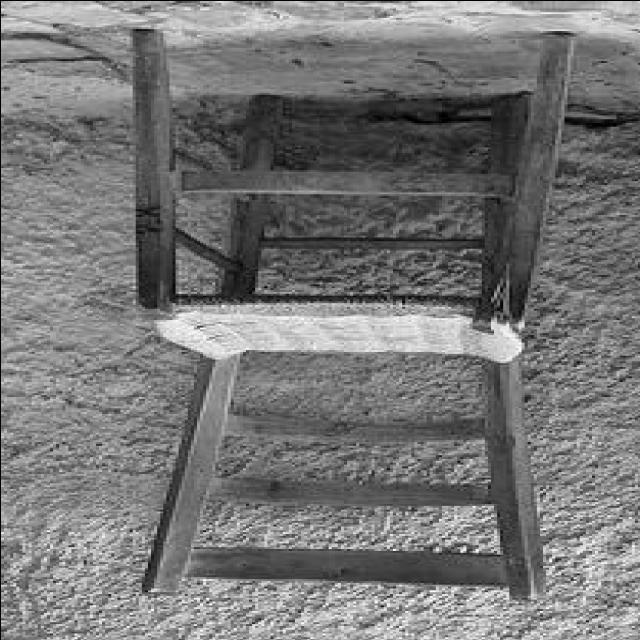chair: (128, 29, 569, 606)
